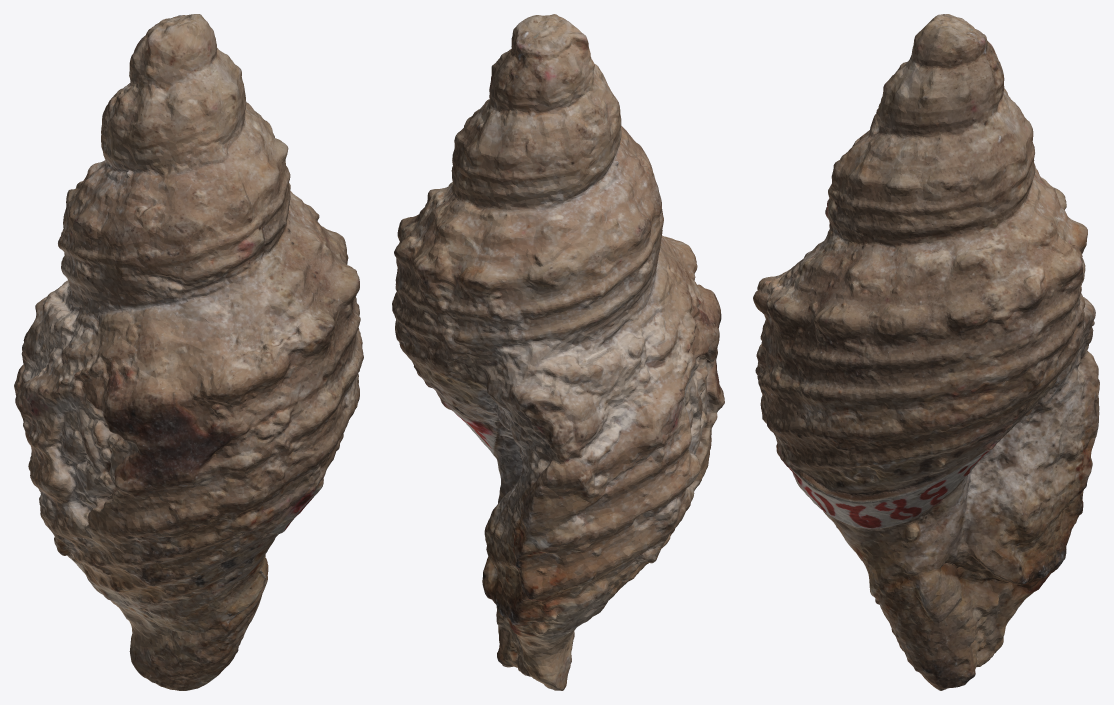
Rendered from EWS0016392.glb.
3 views of the same model, side by side, from view 1: azimuth 30°, elevation 25°; view 2: azimuth 150°, elevation 25°; view 3: azimuth 270°, elevation 25° (orthographic).
Parts seen in each view (by area): view 1: input; view 2: input; view 3: input.
Part boxes in pixels (<box>): input: <box>14,14,363,690</box>; input: <box>392,14,724,690</box>; input: <box>753,14,1099,690</box>.
Bounding box in the file's own units: 0.0119 × 0.0263 × 0.0125.
Materials: 1 (1 with a texture image).
